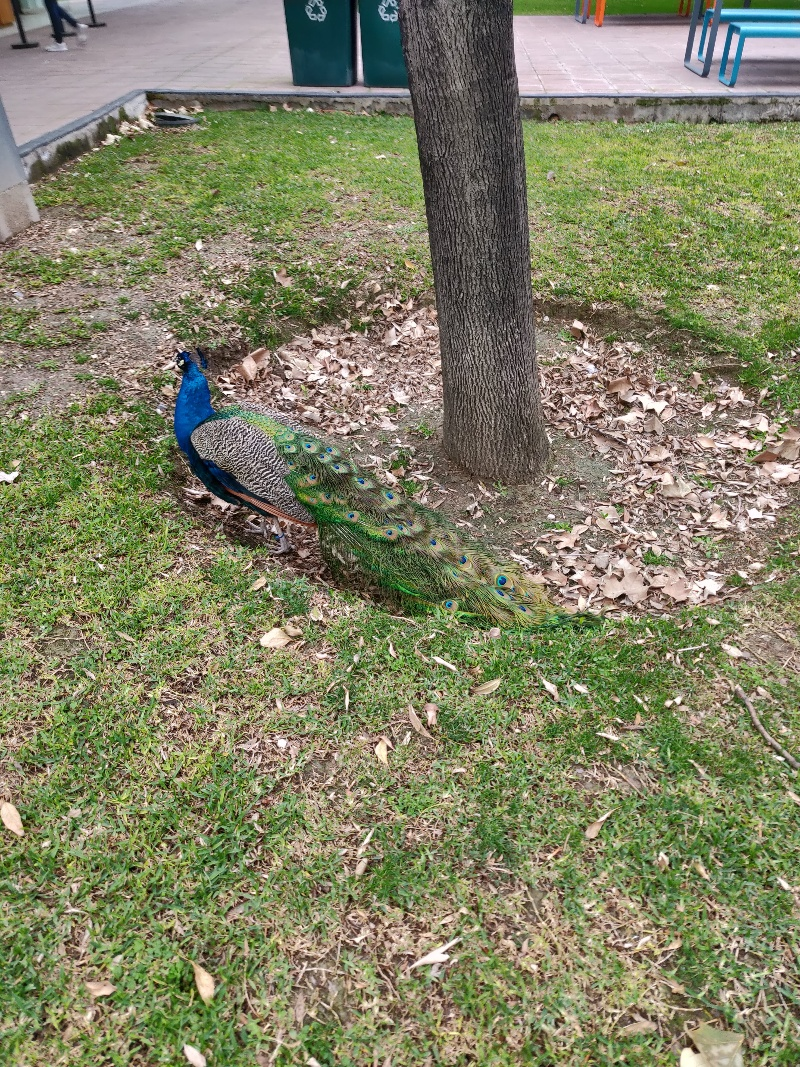pavoreal: (167, 351, 382, 565)
